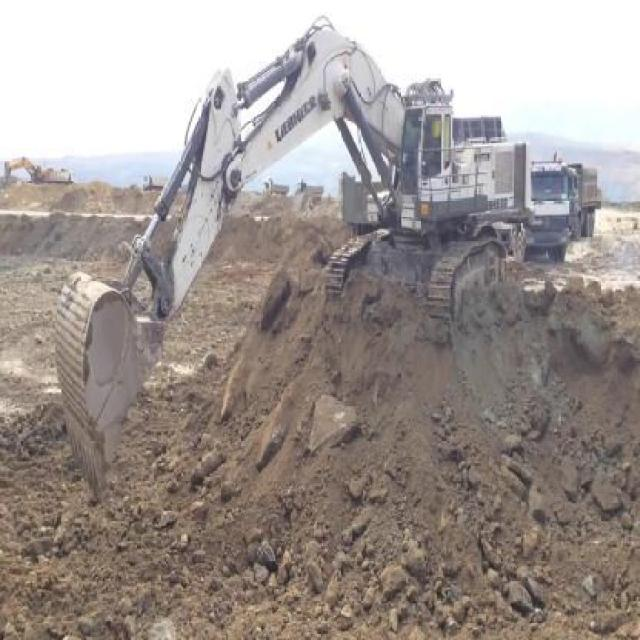dump_truck: (512, 158, 570, 264), (568, 156, 600, 238)
excavator: (54, 22, 521, 500)
